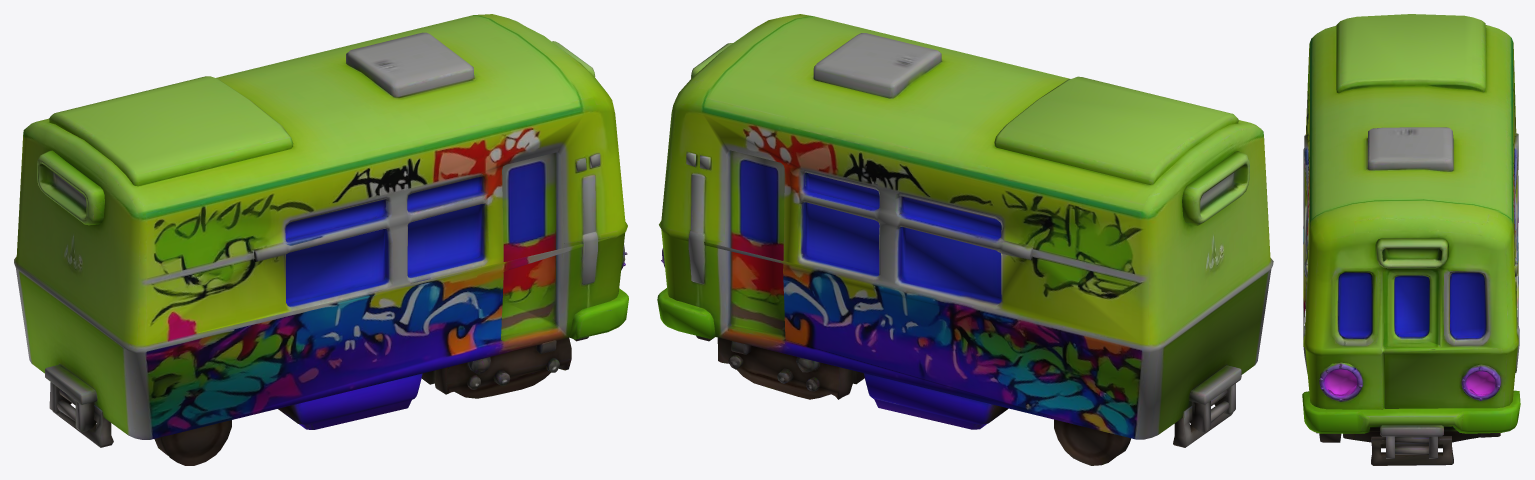
The model's file is train-green.glb.
3 views of the same model, side by side, from view 1: azimuth 30°, elevation 25°; view 2: azimuth 150°, elevation 25°; view 3: azimuth 270°, elevation 25° (orthographic). The views are drawn at different scales.
Visible parts, largest first — view 1: tripo_node_4367afea-9957-4b0b-b8e7-a1c01ca60760; view 2: tripo_node_4367afea-9957-4b0b-b8e7-a1c01ca60760; view 3: tripo_node_4367afea-9957-4b0b-b8e7-a1c01ca60760.
Boxes of the visible parts, x1=… form: tripo_node_4367afea-9957-4b0b-b8e7-a1c01ca60760: x1=14, y1=14, x2=628, y2=465; tripo_node_4367afea-9957-4b0b-b8e7-a1c01ca60760: x1=657, y1=14, x2=1273, y2=465; tripo_node_4367afea-9957-4b0b-b8e7-a1c01ca60760: x1=1302, y1=14, x2=1520, y2=465.
Size of the model in its own units: 0.998 by 0.5723 by 0.4277.
Materials: 1 (1 with a texture image).
